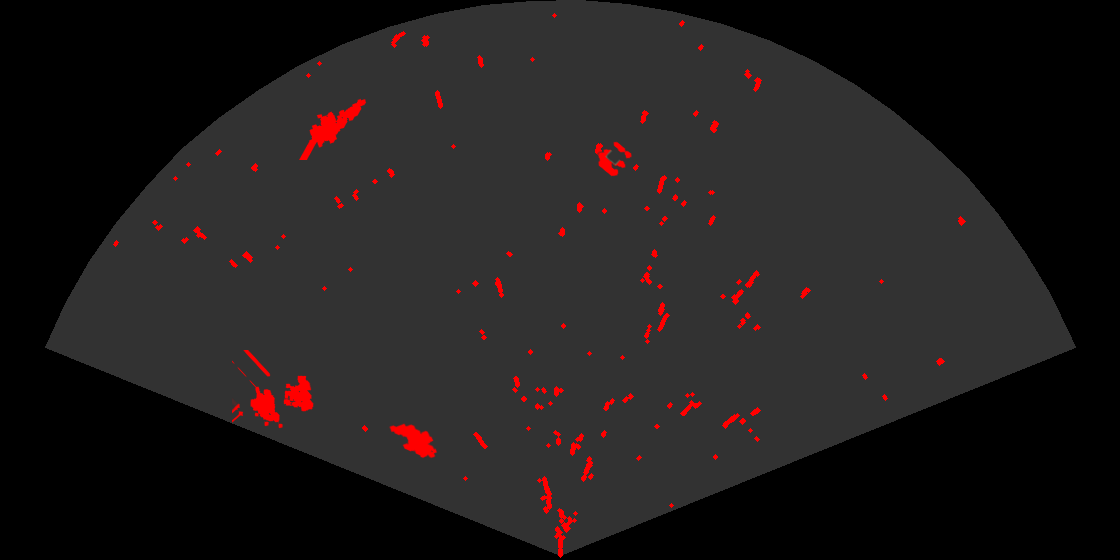AUV: (388, 422, 439, 460)
ball: (596, 140, 633, 178)
cage: (232, 350, 315, 430)
frogman: (298, 97, 368, 160)
